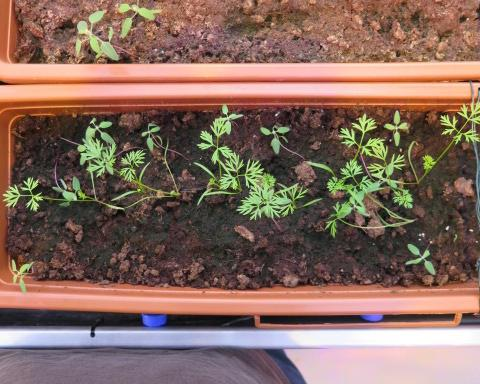weed: (402, 241, 436, 275), (256, 123, 292, 155)
